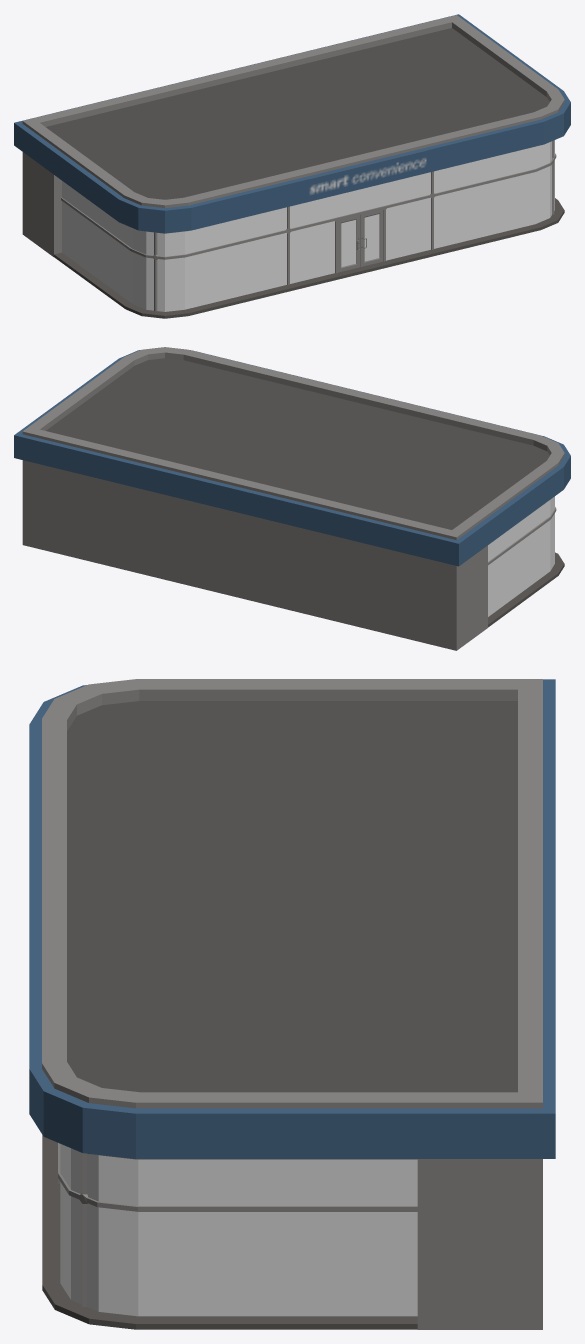
File: SM_Bldg_City_EVchargingStation_ConvenienceStore.fbx
The picture shows the model from 3 angles, top to bottom: view 1: azimuth 30°, elevation 25°; view 2: azimuth 150°, elevation 25°; view 3: azimuth 270°, elevation 25°; orthographic projection. The views are drawn at different scales.
Parts seen in each view (by area): view 1: SM_Bldg_City_EVchargingStation_ConvenienceStore; view 2: SM_Bldg_City_EVchargingStation_ConvenienceStore; view 3: SM_Bldg_City_EVchargingStation_ConvenienceStore.
Boxes of the visible parts, x1,y1,x2,y2 form: SM_Bldg_City_EVchargingStation_ConvenienceStore: (14, 14, 570, 318); SM_Bldg_City_EVchargingStation_ConvenienceStore: (14, 347, 570, 650); SM_Bldg_City_EVchargingStation_ConvenienceStore: (29, 679, 555, 1329).
Bounding box in the file's own units: 1640 × 401 × 840.
